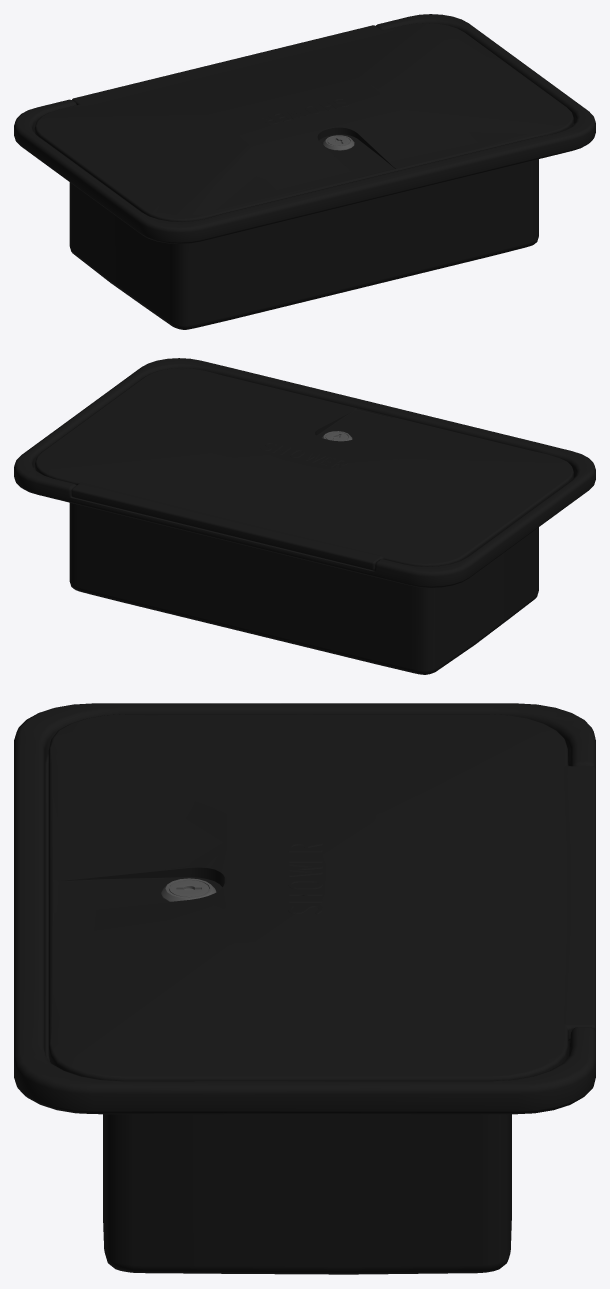
Rendered from shower-box.glb.
3 views of the same model, one above another, from view 1: azimuth 30°, elevation 25°; view 2: azimuth 150°, elevation 25°; view 3: azimuth 270°, elevation 25° (orthographic). The views are drawn at different scales.
Parts seen in each view (by area): view 1: Shower_box; view 2: Shower_box; view 3: Shower_box.
Part boxes in pixels (left/top/right/bottom): Shower_box: left=14, top=14, right=595, bottom=329; Shower_box: left=14, top=358, right=595, bottom=674; Shower_box: left=14, top=703, right=595, bottom=1274.
Bounding box in the file's own units: 0.3379 × 0.0986 × 0.2146.
1 material, 1 textured.
